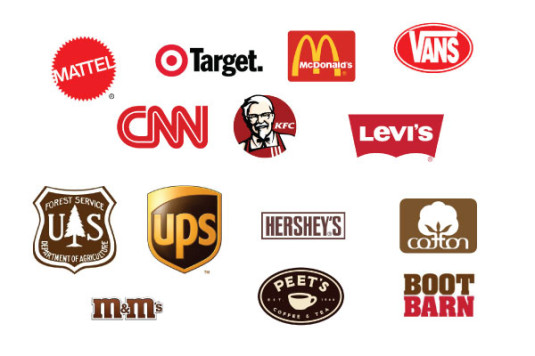mcdonalds: (289, 32, 343, 74)
